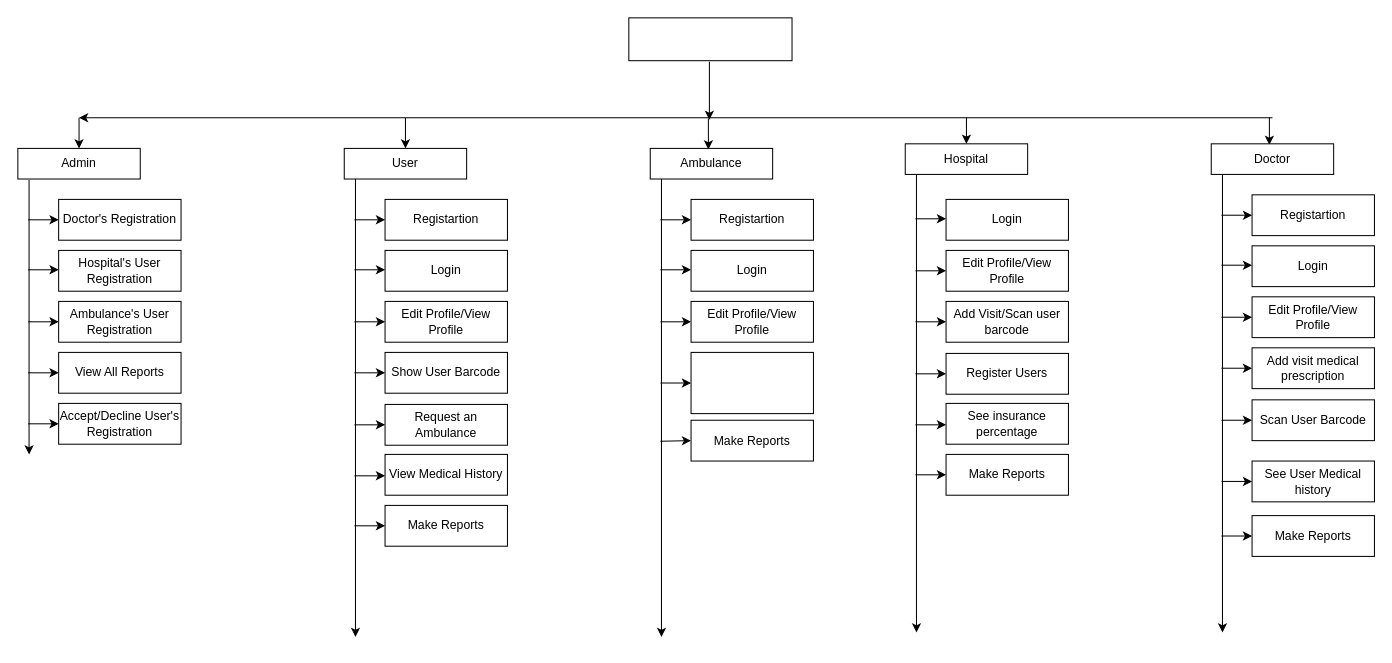
This 1392x663 diagram has some shape labels left out. Here are the shapes that lost their labels. From the top down, the centre of each, then its label:
At point 710,39: "Healthy Shield".
At point 751,382: "View User Requests/View User's Medical details".
